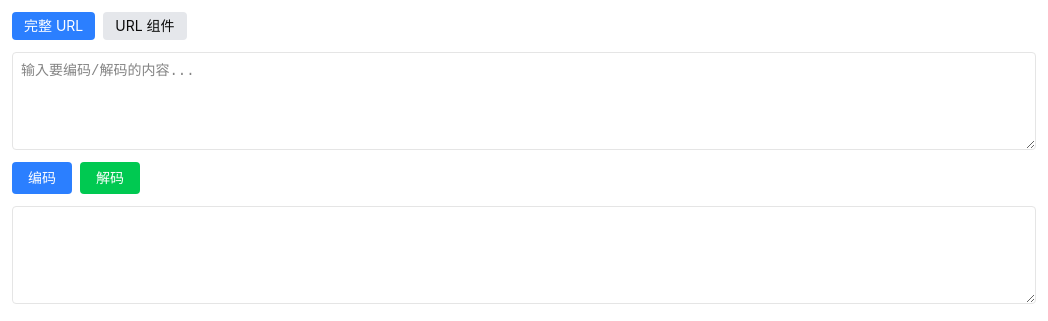
Test: UrlCodecTab › encodes input in component mode
The width and height of the screenshot is (1048, 321).
Step 1. Click the button with test id "mode-component" → (145, 26), box [103, 12, 187, 40]
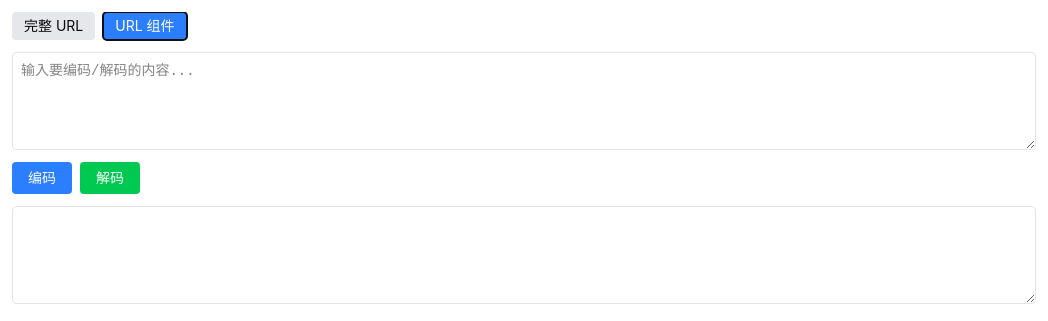
Step 2. Type "hello world" into the text box with test id "codec-input" → (524, 101), box [12, 52, 1036, 150]
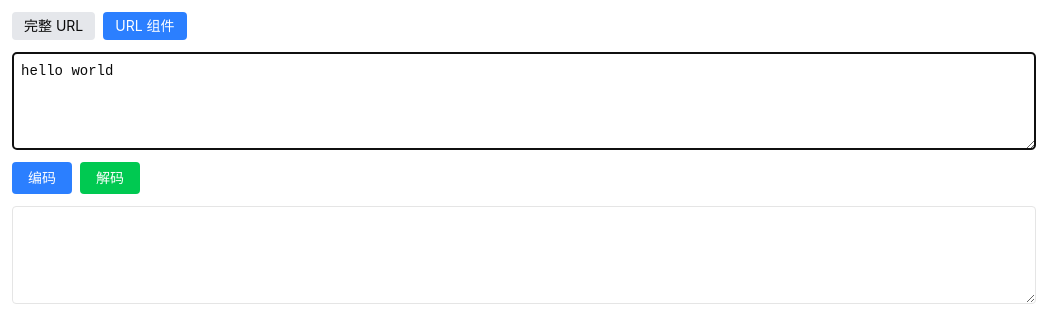
Step 3. Click the button with test id "btn-encode" → (42, 178), box [12, 162, 72, 194]
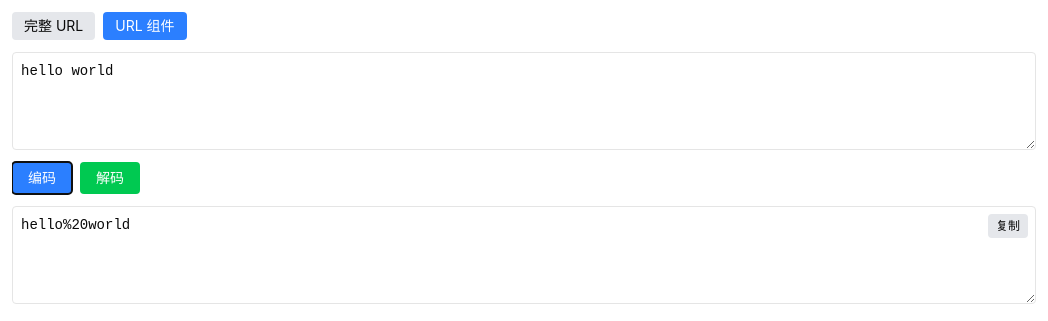
Check: the text box with test id "codec-output" holds "hello%20world", box [12, 206, 1036, 304]
